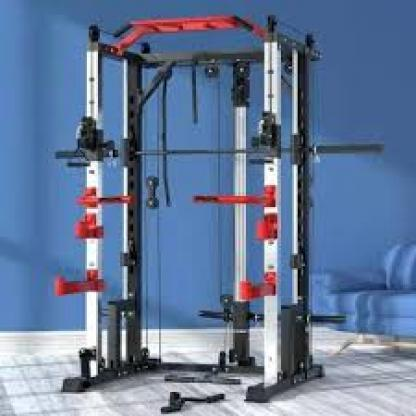smith machine: (54, 13, 348, 405)
